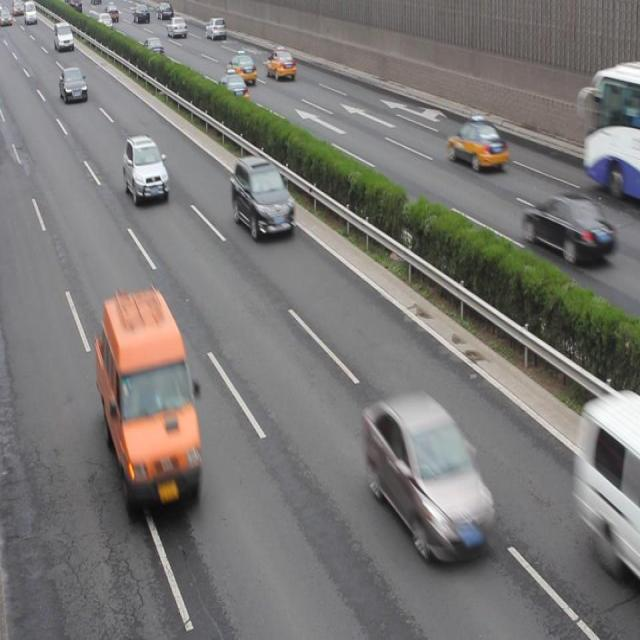car: (364, 393, 496, 562), (523, 193, 614, 267), (230, 157, 296, 239), (446, 116, 506, 170), (122, 135, 169, 203), (59, 68, 88, 104), (226, 51, 257, 84), (266, 48, 296, 82), (218, 70, 248, 102), (142, 36, 164, 60), (205, 18, 226, 41), (166, 17, 187, 38)
truck: (95, 294, 203, 508), (54, 22, 75, 50)
van: (580, 70, 640, 200)
